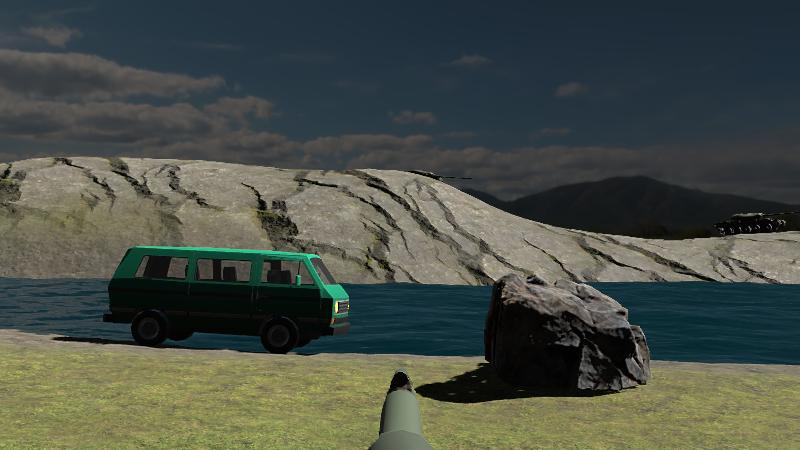Tank: (713, 210, 799, 236)
car: (108, 246, 352, 354)
